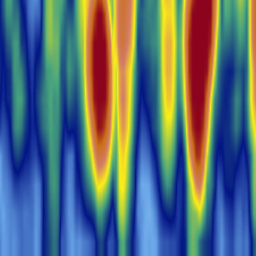defect: (74, 1, 113, 256), (181, 1, 220, 253), (111, 1, 146, 254), (35, 1, 68, 255), (148, 1, 180, 255), (1, 1, 34, 187), (221, 1, 244, 232), (246, 1, 256, 230)
